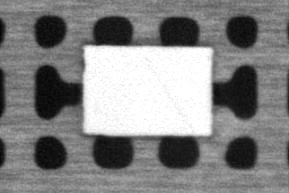DIE_CRACK: (146, 56, 192, 126)
